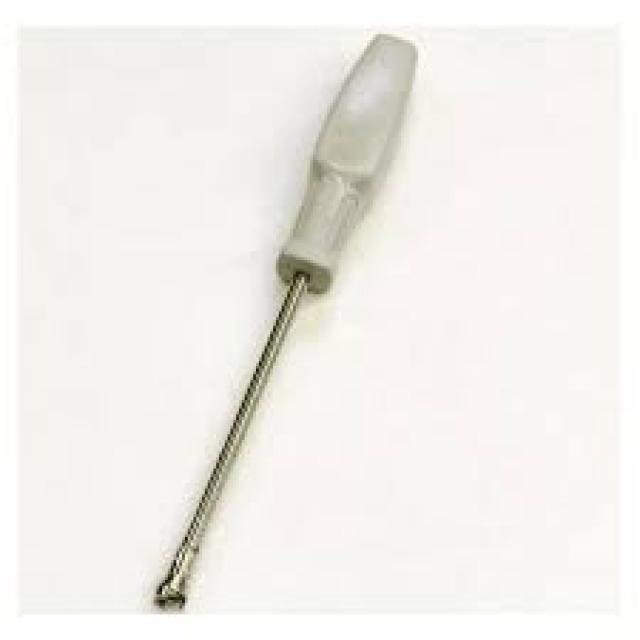Screwdriver: (156, 41, 415, 607)
